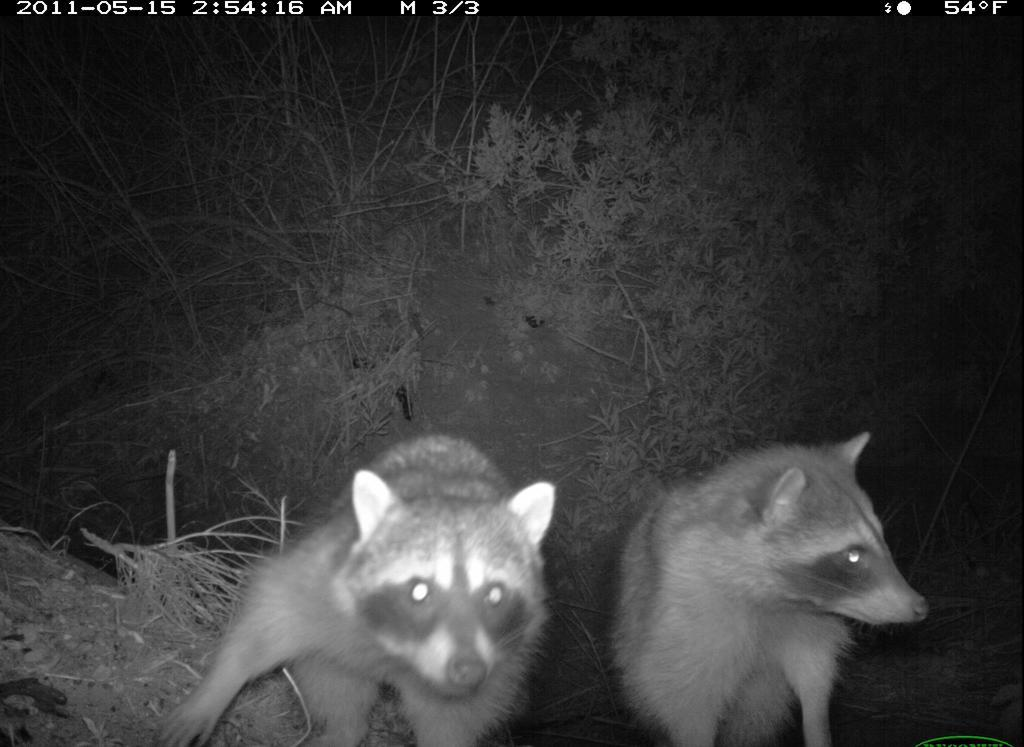raccoon: (146, 414, 560, 747), (605, 427, 936, 747)
